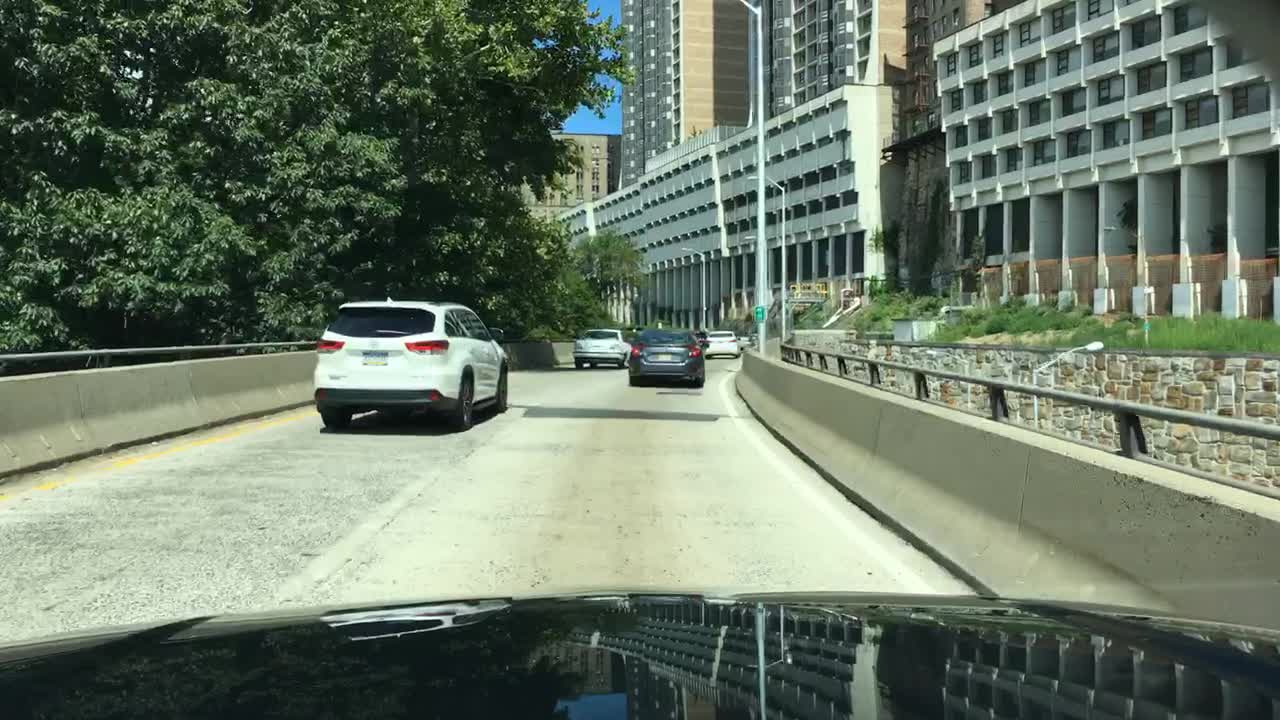car: (311, 294, 510, 433), (627, 321, 707, 388), (573, 328, 630, 369), (701, 328, 738, 359), (738, 333, 753, 349)
traffic sign: (750, 305, 763, 319)
